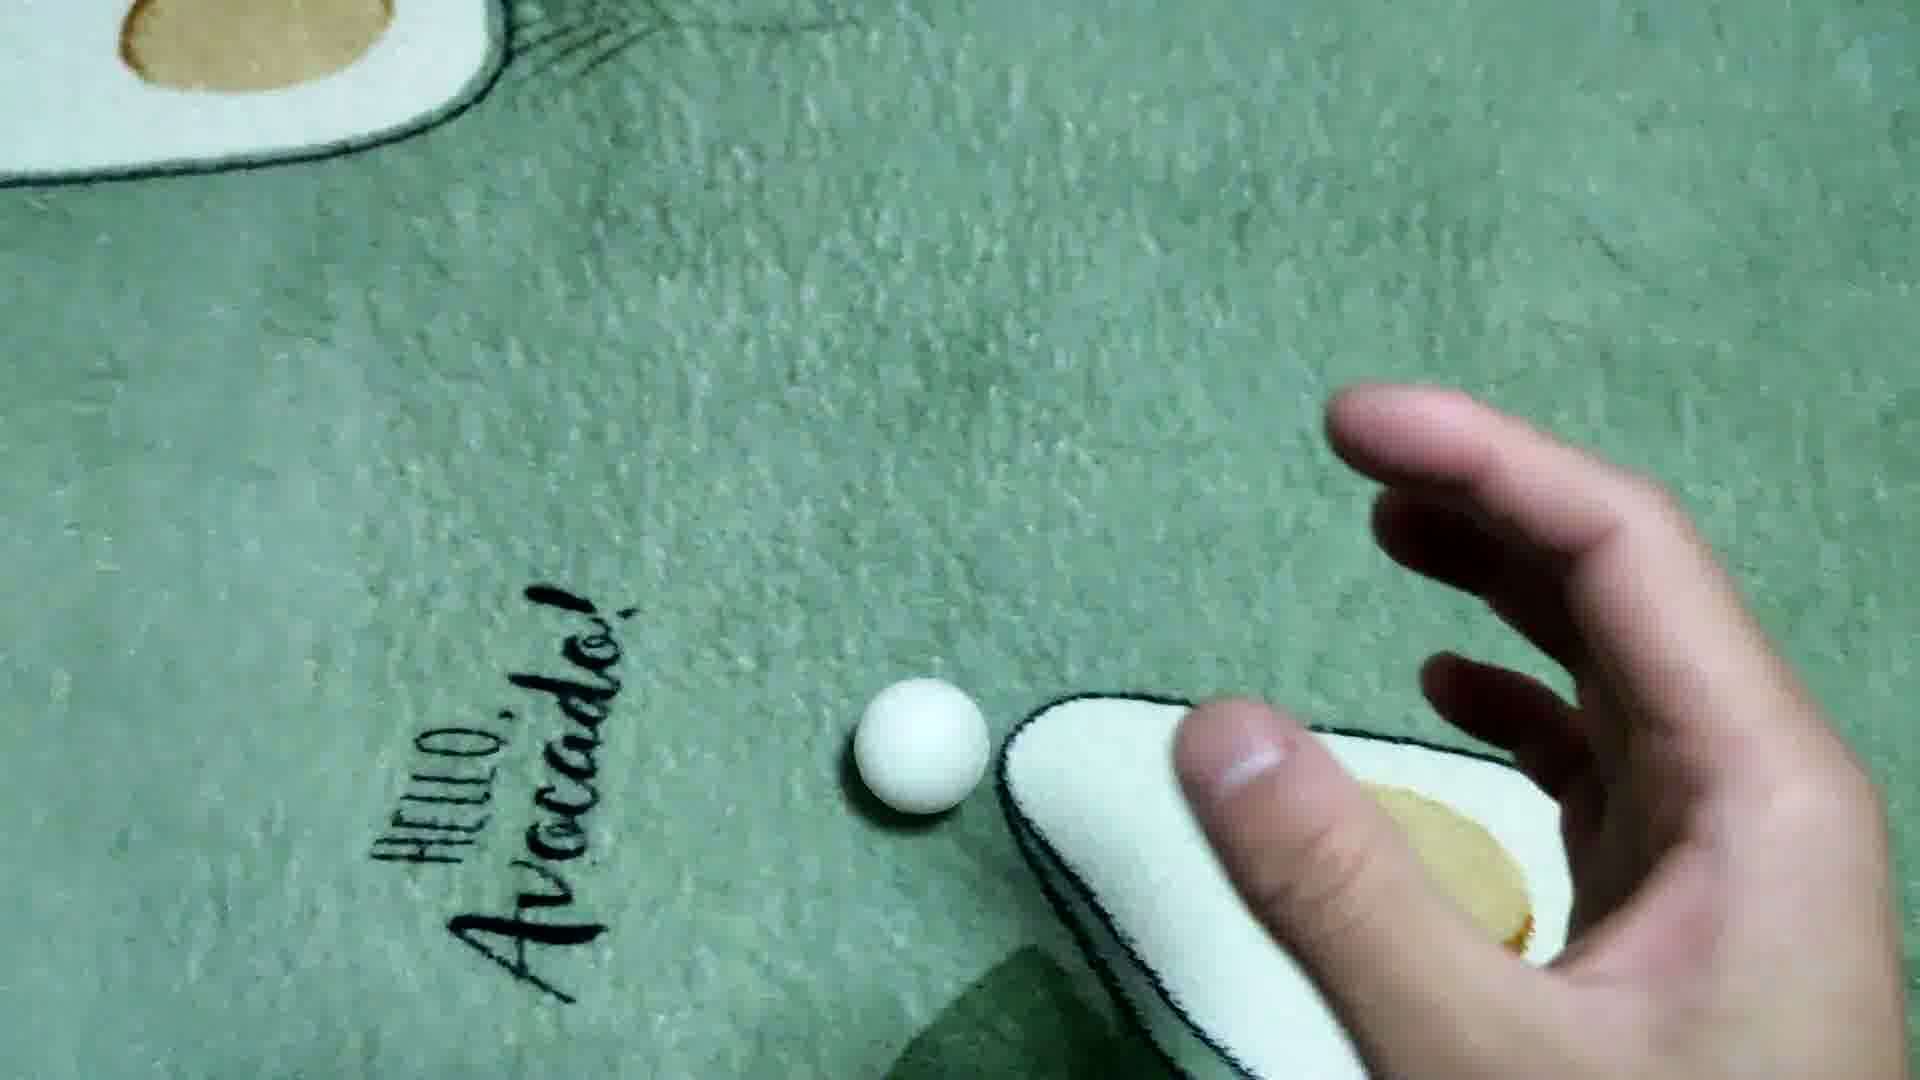Ball: (855, 679, 992, 814)
